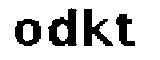d: (45, 7, 80, 50)
k: (81, 6, 114, 50)
o: (11, 18, 42, 47)
t: (114, 13, 141, 49)
